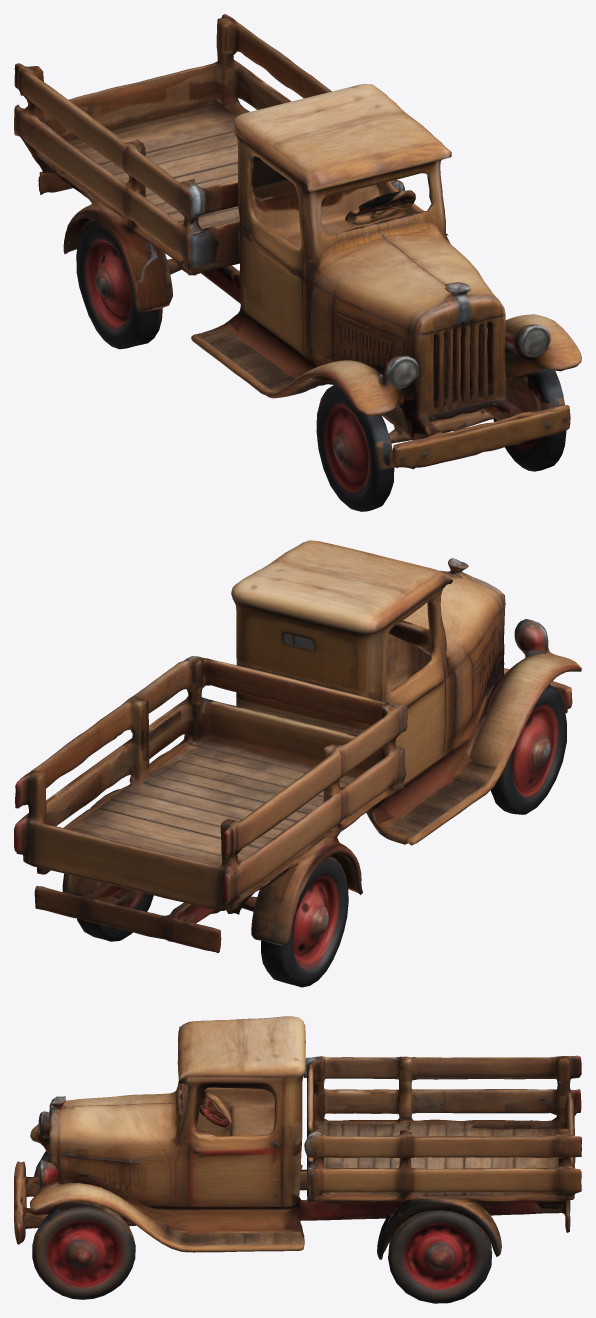
File: _realistic_oldtime_w_1214004353_refine.glb
3 renders of one model, top to bottom at view 1: azimuth 30°, elevation 25°; view 2: azimuth 150°, elevation 25°; view 3: azimuth 270°, elevation 25°, orthographic. The views are drawn at different scales.
Size of the model in its own units: 0.7297 by 0.8776 by 2.
Materials: 1 (1 with a texture image).
